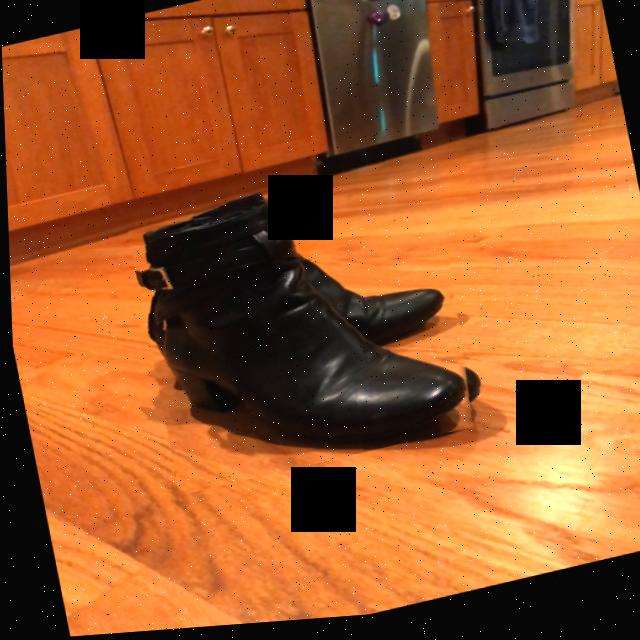shoe: (134, 198, 469, 454)
